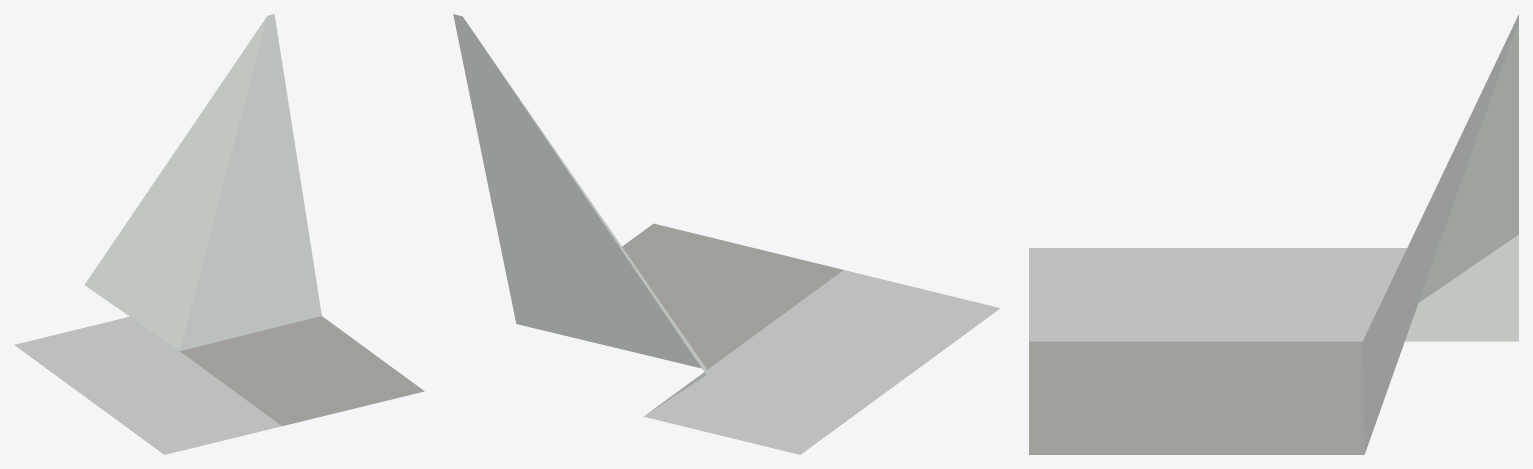
3 renders of one model, left to right at view 1: azimuth 30°, elevation 25°; view 2: azimuth 150°, elevation 25°; view 3: azimuth 270°, elevation 25°, orthographic. The views are drawn at different scales.
Bounding box in the file's own units: 0.983 × 0.9637 × 0.983.
Materials: 1 (1 with a texture image).
